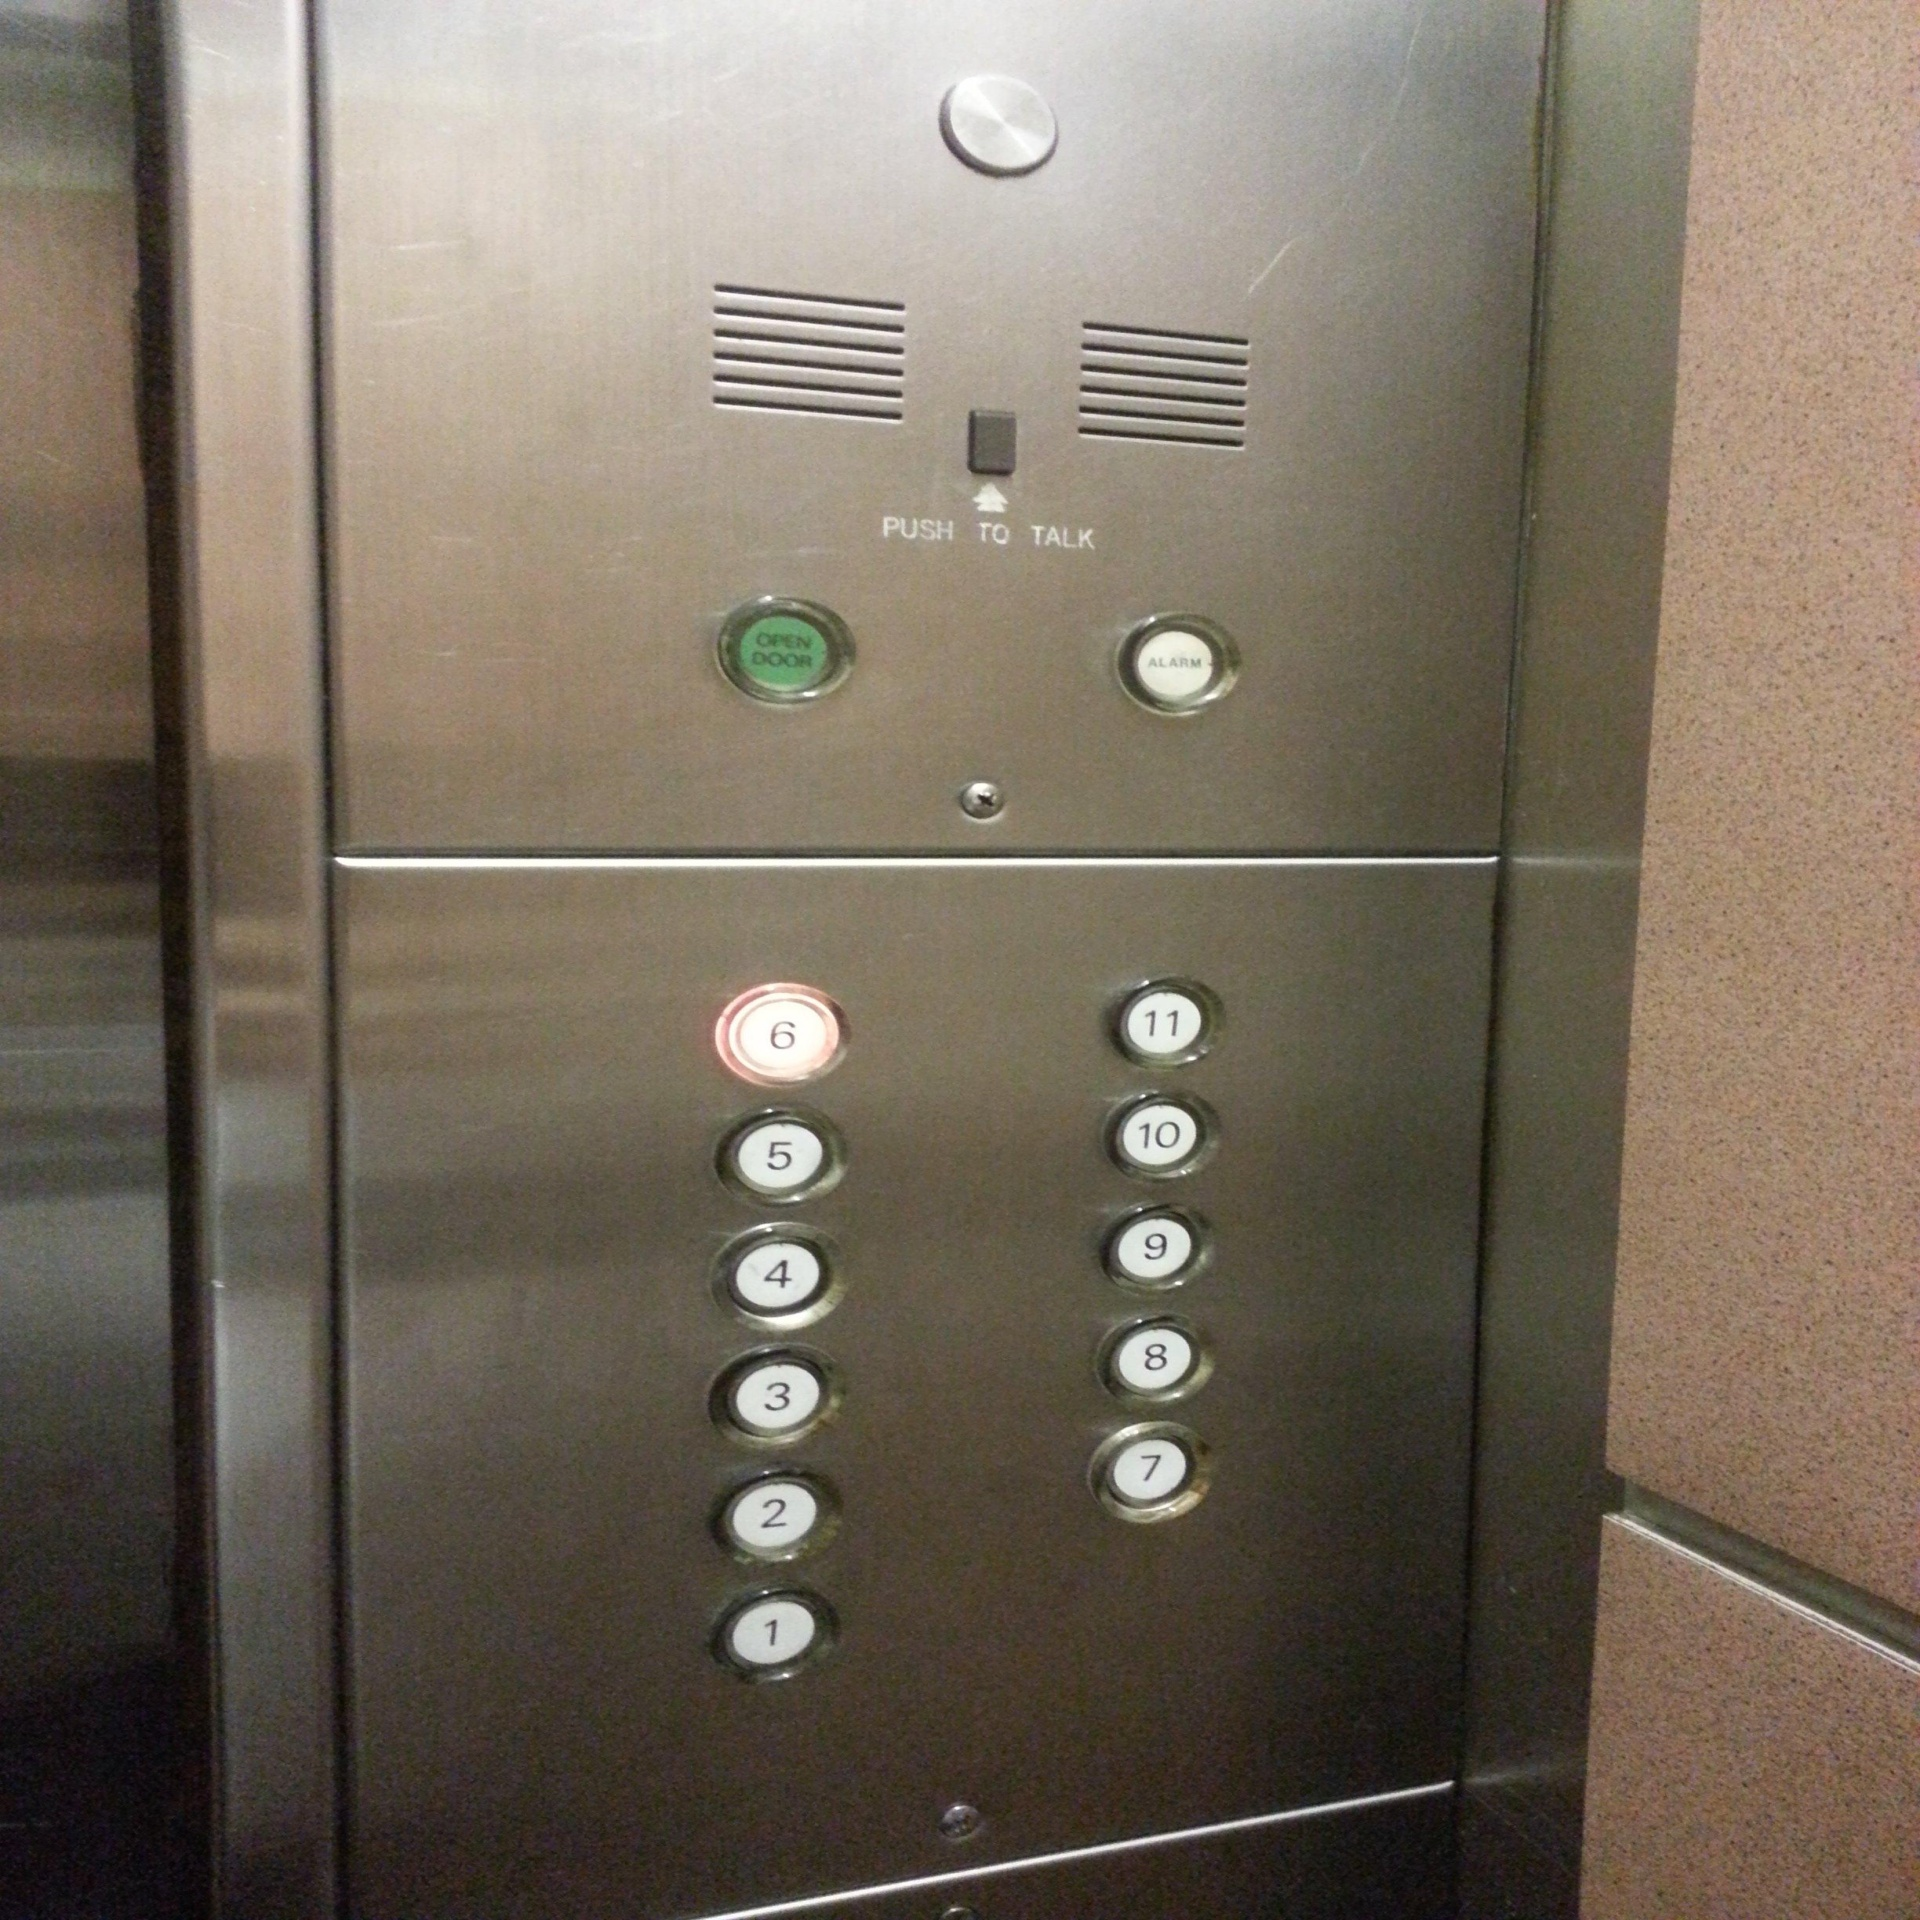1: (710, 1582, 839, 1683)
10: (1102, 1087, 1222, 1183)
11: (1109, 972, 1225, 1073)
2: (709, 1466, 840, 1565)
3: (707, 1340, 842, 1449)
4: (709, 1218, 846, 1333)
5: (714, 1101, 849, 1206)
6: (712, 978, 851, 1094)
7: (1087, 1419, 1218, 1526)
8: (1094, 1310, 1217, 1408)
9: (1099, 1199, 1213, 1294)
empty: (937, 70, 1058, 176), (965, 410, 1022, 478)
text_close: (1111, 608, 1245, 721)
text_open: (710, 587, 858, 710)
